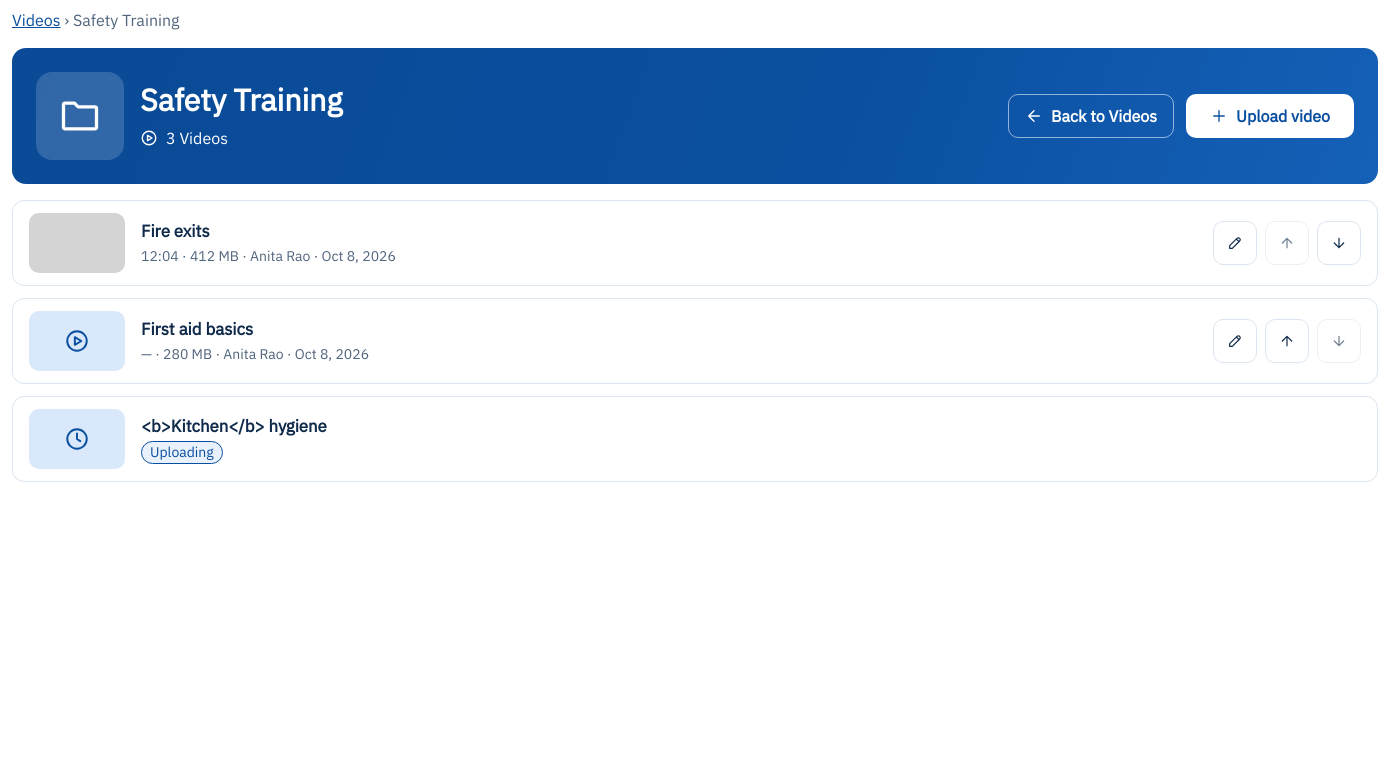
Test: FolderPage › reloads and explains when the order changed under you
Click the button named "Move Fire exits down". click: (1339, 243)
box: [1317,221,1361,265]
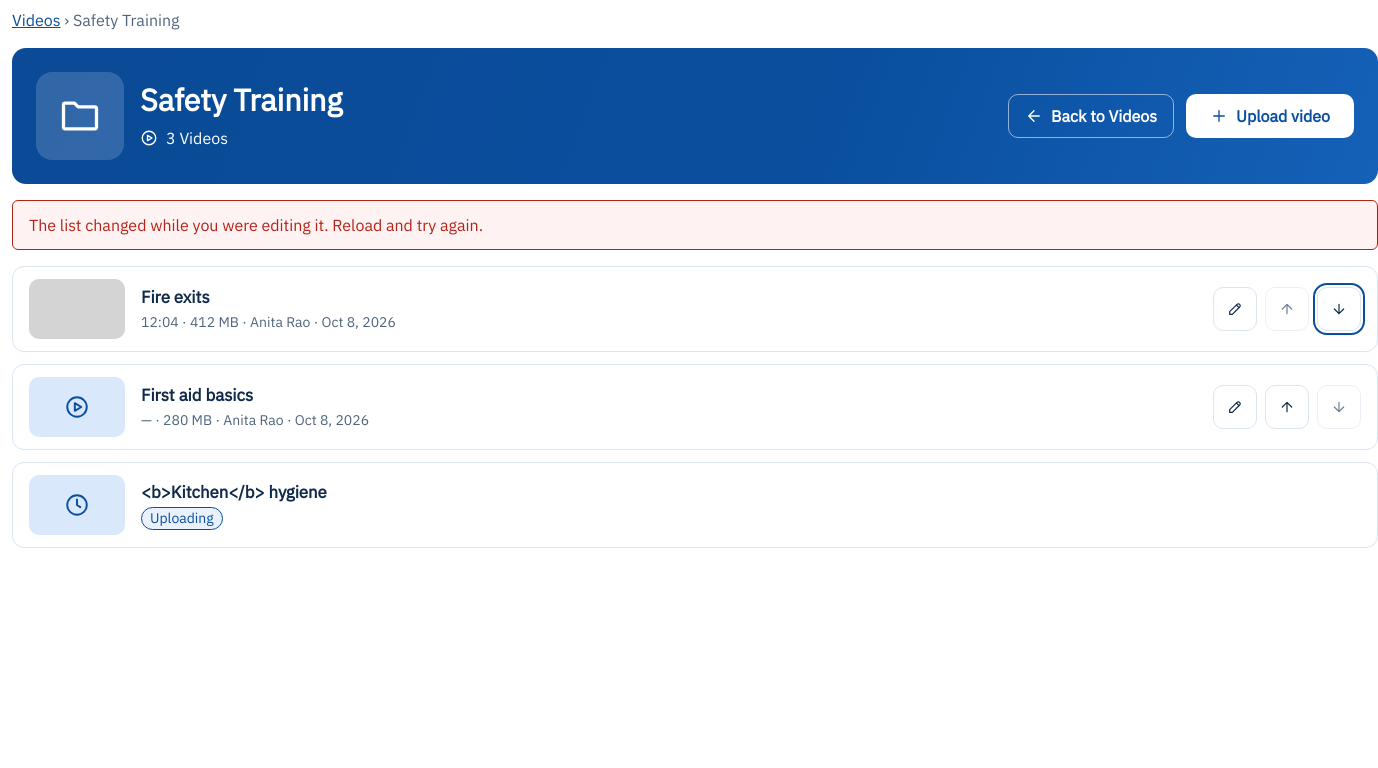
Result: the message shows "The list changed" at [29,215,483,235]
